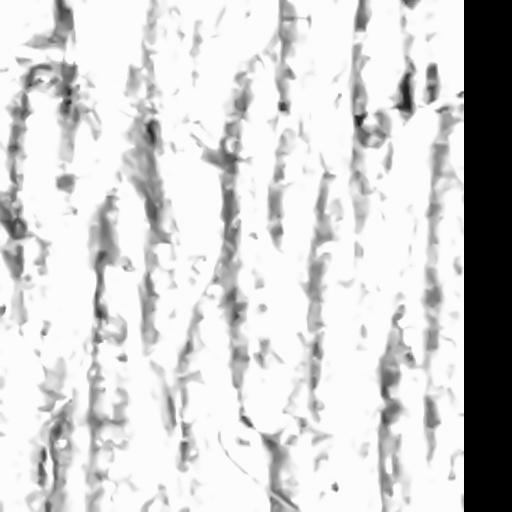egg: (397, 71, 412, 112)
